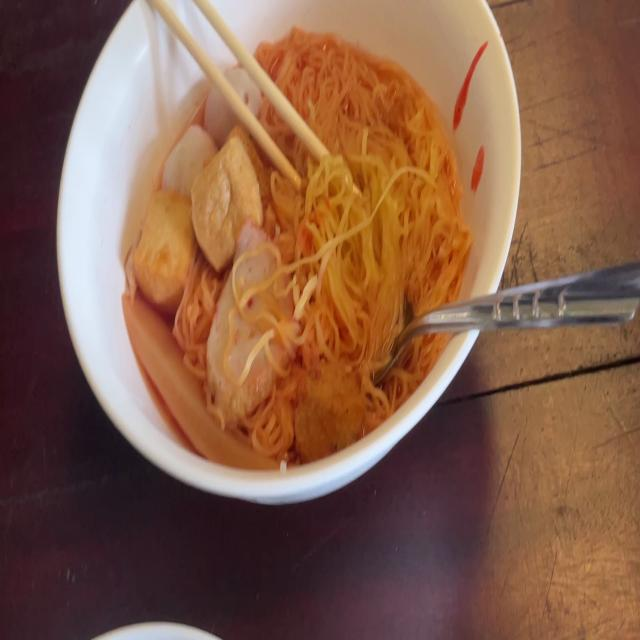crunchy_squid: (124, 296, 278, 476)
egg_noodles: (258, 37, 465, 356)
fish_ball: (201, 62, 263, 142), (160, 124, 219, 201)
fried_fish_balls: (210, 222, 289, 413)
fried_tofu: (202, 125, 268, 248)
noodle: (126, 23, 466, 466)
tofu: (134, 191, 198, 309)
